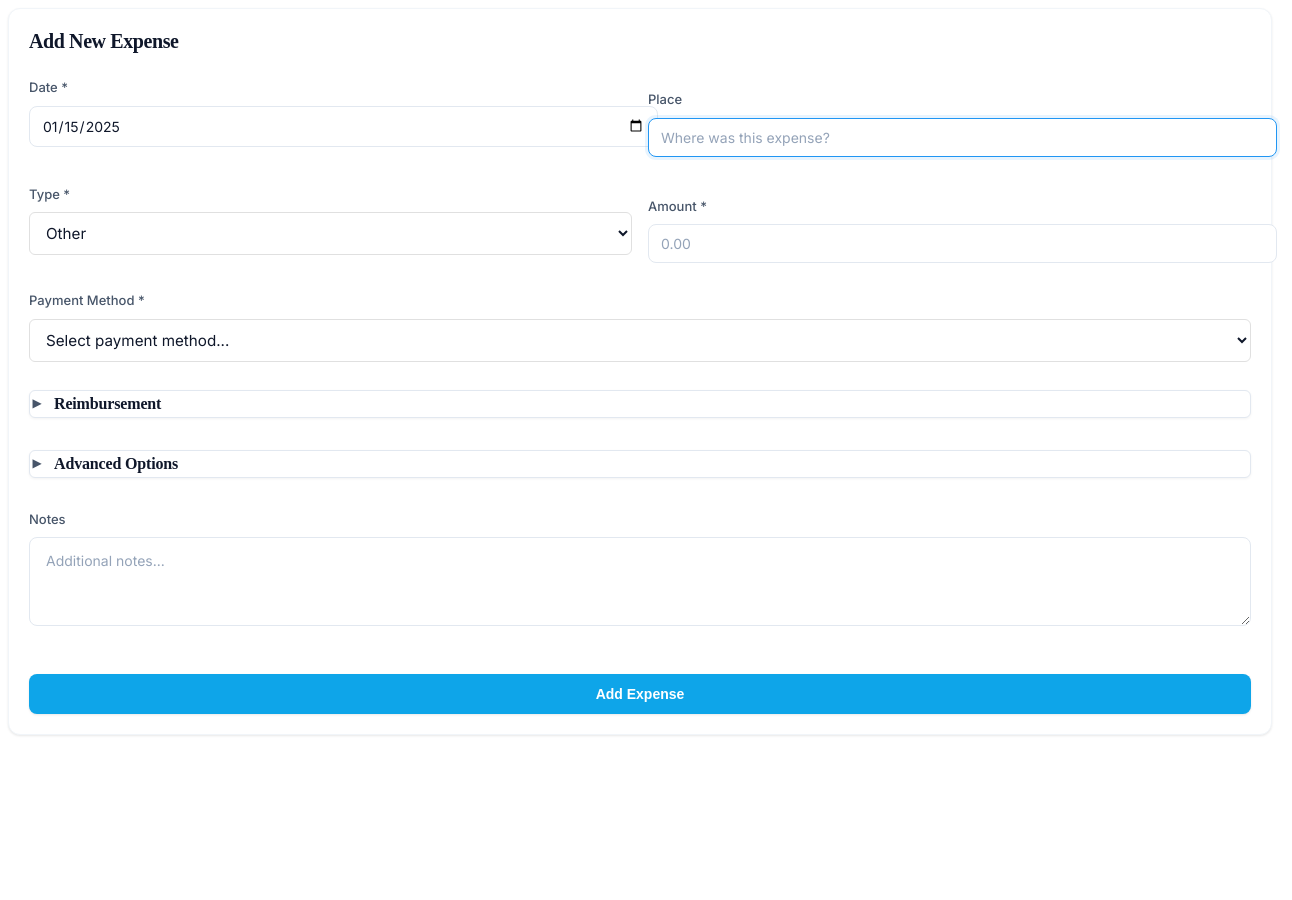
Scenario: ExpenseForm - Future Months Feature › should show date range preview when future months is selected
The width and height of the screenshot is (1292, 900).
Expected: the dropdown labelled "Type *" is shown, [29, 212, 632, 255]
Expand Advanced Options section first
Step 1. Click the button "▶ Advanced Options" → (105, 463), box [32, 454, 178, 472]
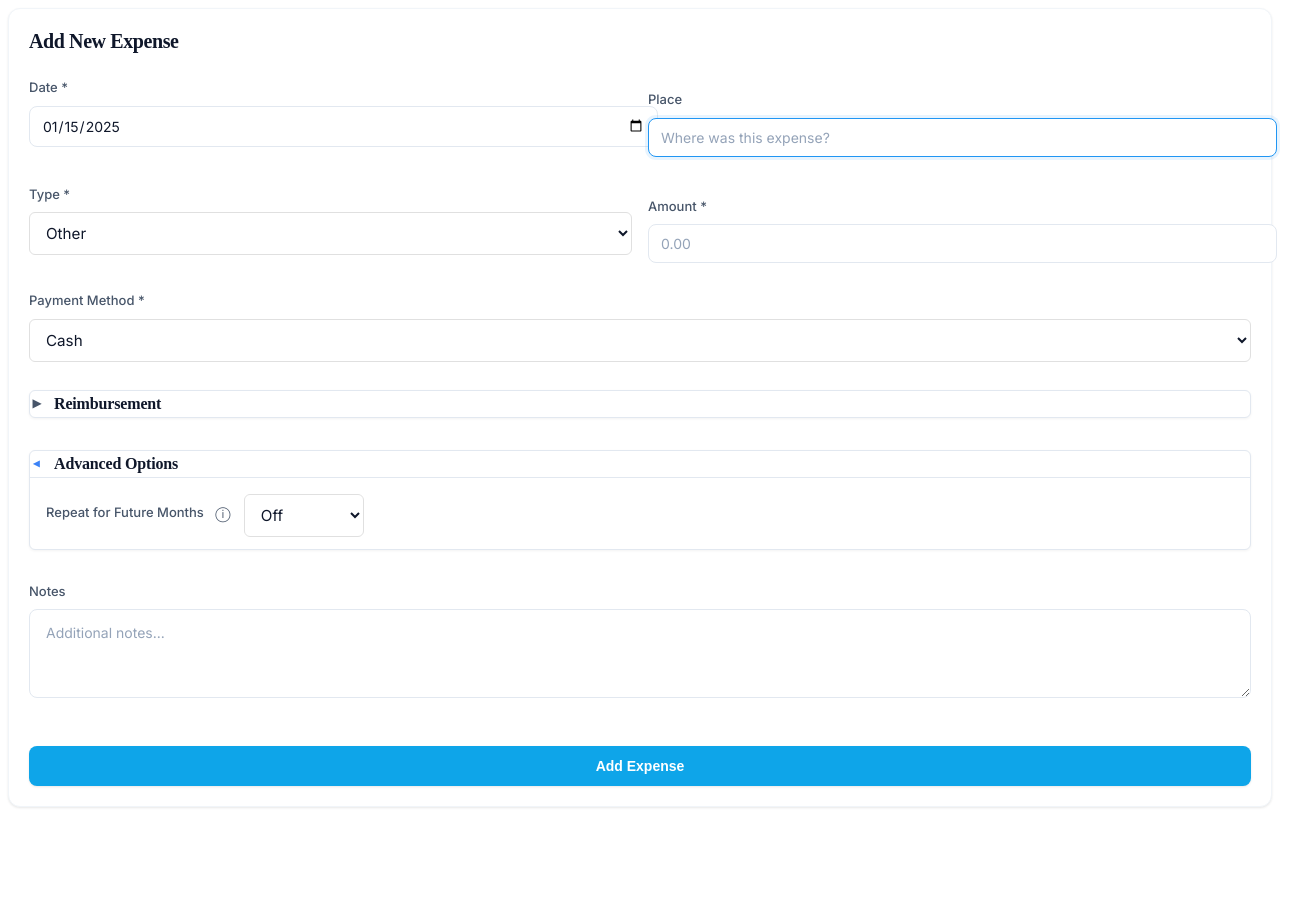
Expected: the text "will create" is not shown
Now the button "▼ Advanced Options" is expanded, box [30, 454, 178, 472]
Select 1 month from the future months select
Step 2. Select "1 month" in the dropdown labelled "Repeat for Future Months ⓘ" → (304, 515), box [244, 494, 364, 536]
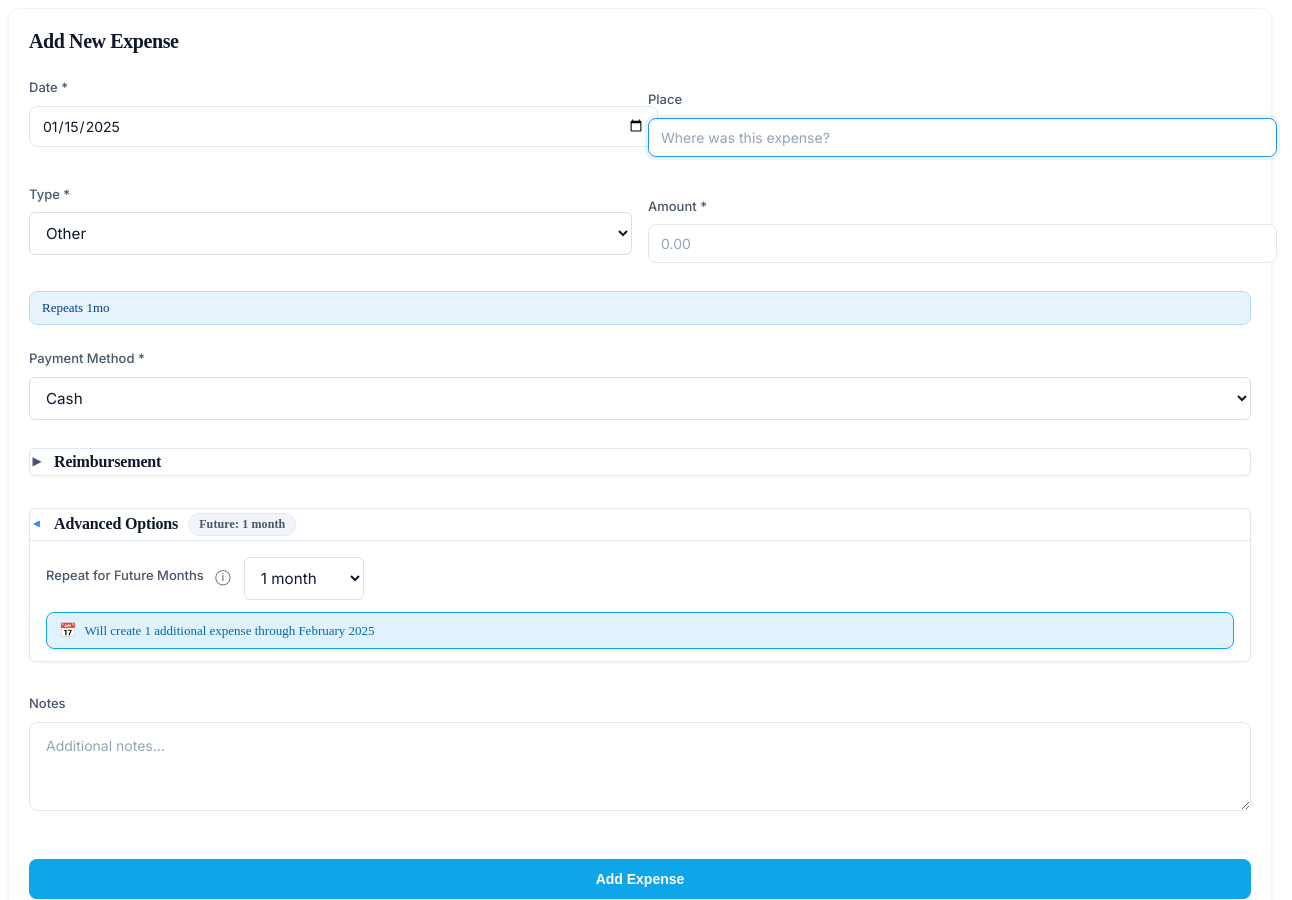
Now the text "Will create 1 additional expense through February 2025" is shown, box [84, 620, 375, 640]
